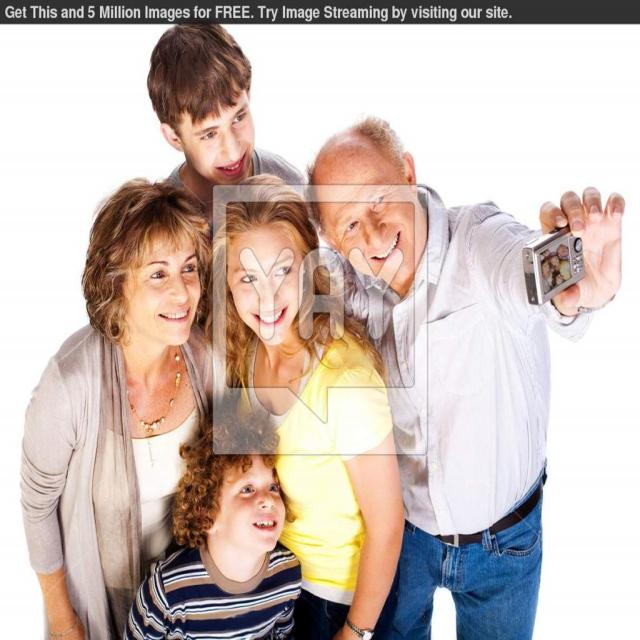nomask: (315, 156, 413, 288), (131, 222, 199, 346), (230, 226, 298, 349), (188, 75, 254, 188), (226, 461, 288, 550)
